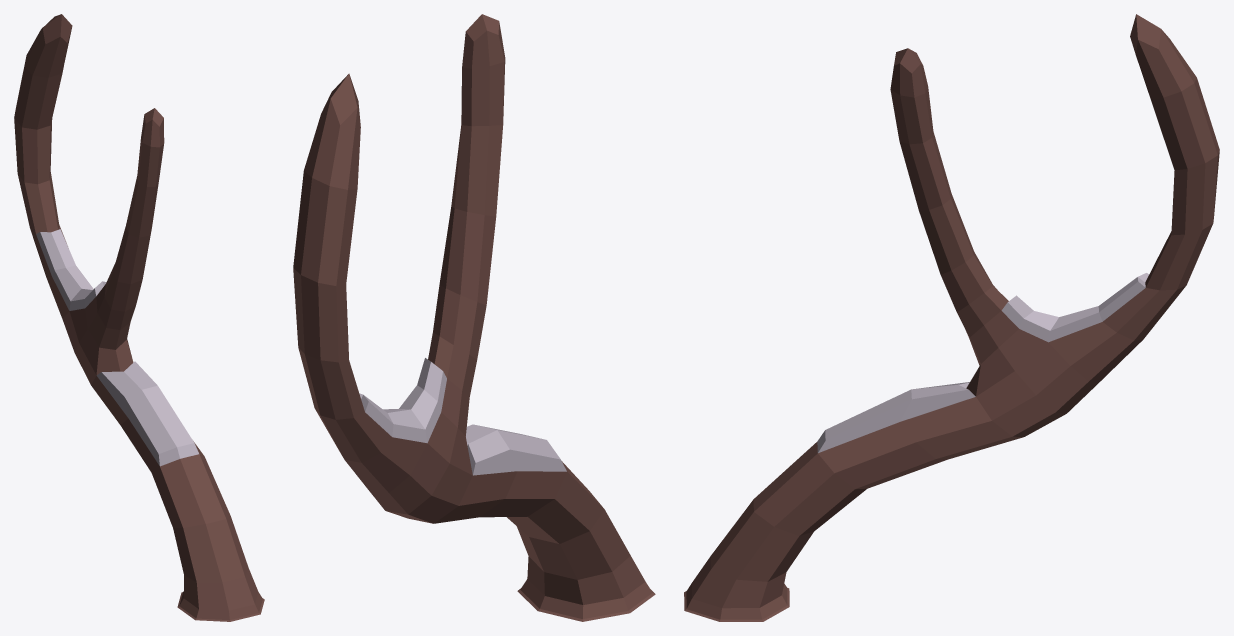
Rendered from willow_dead_snow_3.glb.
The picture shows the model from 3 angles, left to right: view 1: azimuth 30°, elevation 25°; view 2: azimuth 150°, elevation 25°; view 3: azimuth 270°, elevation 25°; orthographic projection. The views are drawn at different scales.
Visible parts, largest first — view 1: Willow_Dead_Snow_3; view 2: Willow_Dead_Snow_3; view 3: Willow_Dead_Snow_3.
Part boxes in pixels (bbox=[...]): Willow_Dead_Snow_3: bbox=[14, 14, 264, 621]; Willow_Dead_Snow_3: bbox=[293, 14, 655, 621]; Willow_Dead_Snow_3: bbox=[684, 14, 1219, 621].
Bounding box in the file's own units: 0.746 × 4.57 × 3.79.
